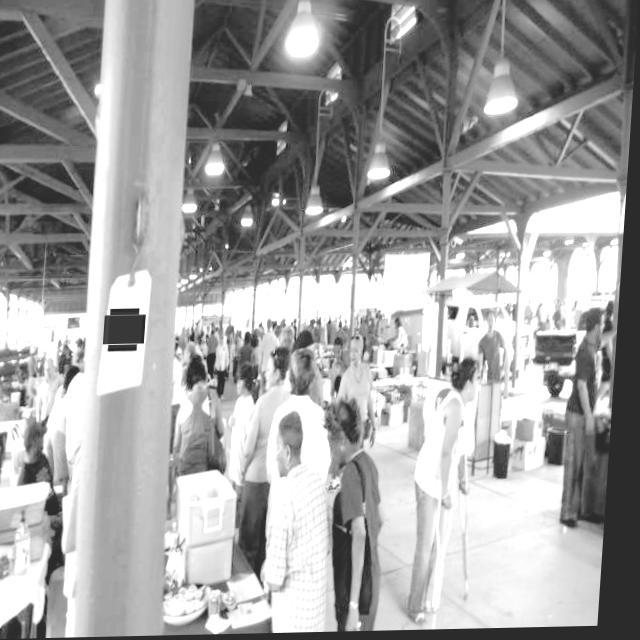qr_code: (110, 312, 147, 349)
